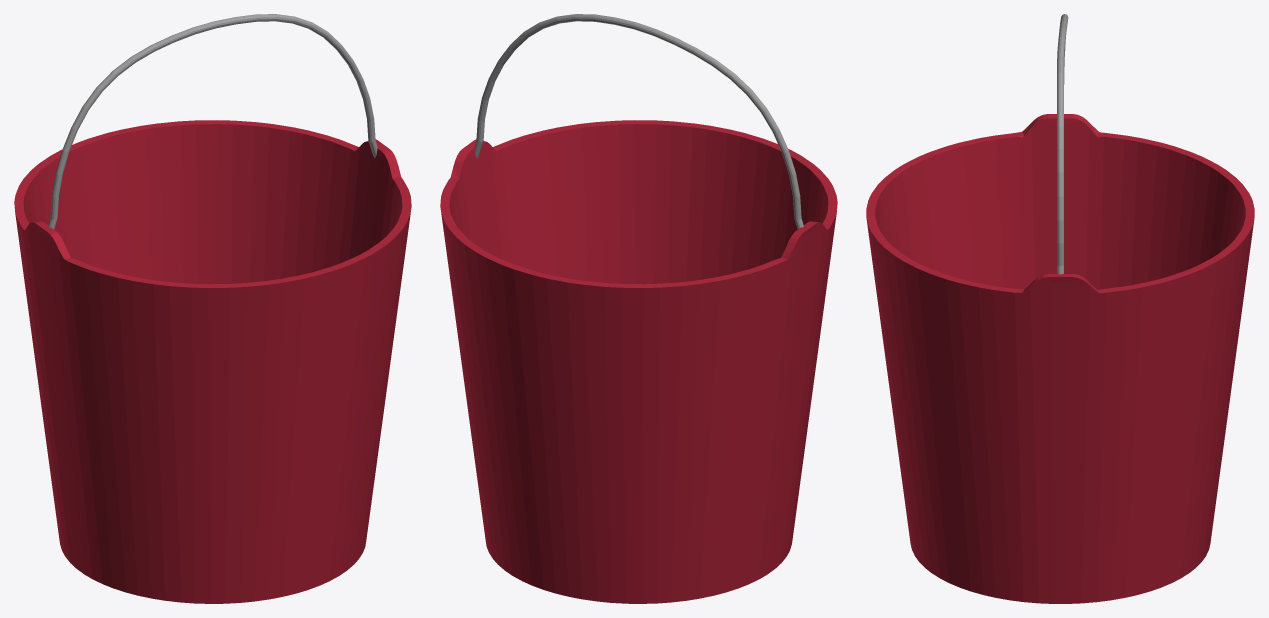
File: kova.fbx
3 renders of one model, left to right at view 1: azimuth 30°, elevation 25°; view 2: azimuth 150°, elevation 25°; view 3: azimuth 270°, elevation 25°, orthographic. The views are drawn at different scales.
Visible parts, largest first — view 1: Cylinder, Torus; view 2: Cylinder, Torus; view 3: Cylinder, Torus.
Part boxes in pixels (box(x1,y1,x2,y2)): Cylinder: box(14, 120, 411, 603); Torus: box(48, 14, 377, 229); Cylinder: box(440, 120, 837, 603); Torus: box(474, 14, 803, 229); Cylinder: box(866, 114, 1254, 603); Torus: box(1057, 14, 1068, 274).
Bounding box in the file's own units: 256 × 370 × 258.
